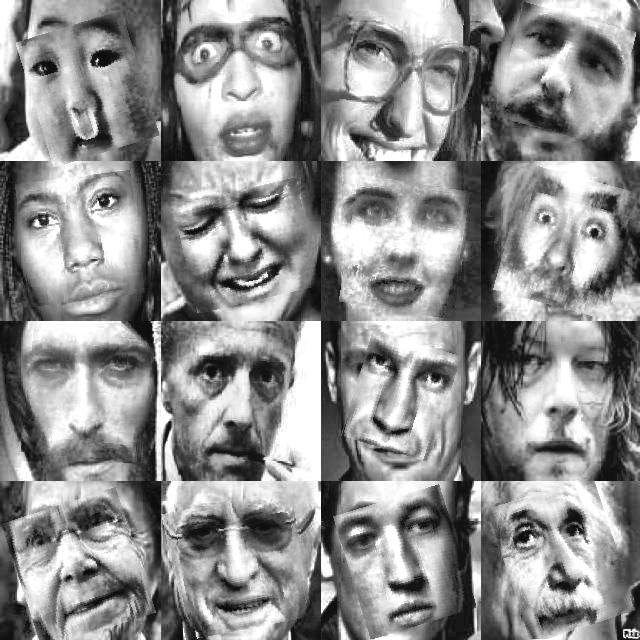fear: (501, 170, 632, 313), (185, 27, 295, 146)
happy: (10, 494, 147, 640), (338, 11, 469, 150), (344, 178, 468, 315)
neutral: (496, 482, 626, 638), (166, 494, 308, 634), (341, 490, 468, 632), (500, 8, 630, 140), (24, 332, 150, 462), (19, 174, 141, 304), (181, 337, 294, 461), (348, 334, 454, 456)
sad: (24, 16, 151, 160), (179, 184, 315, 307)
